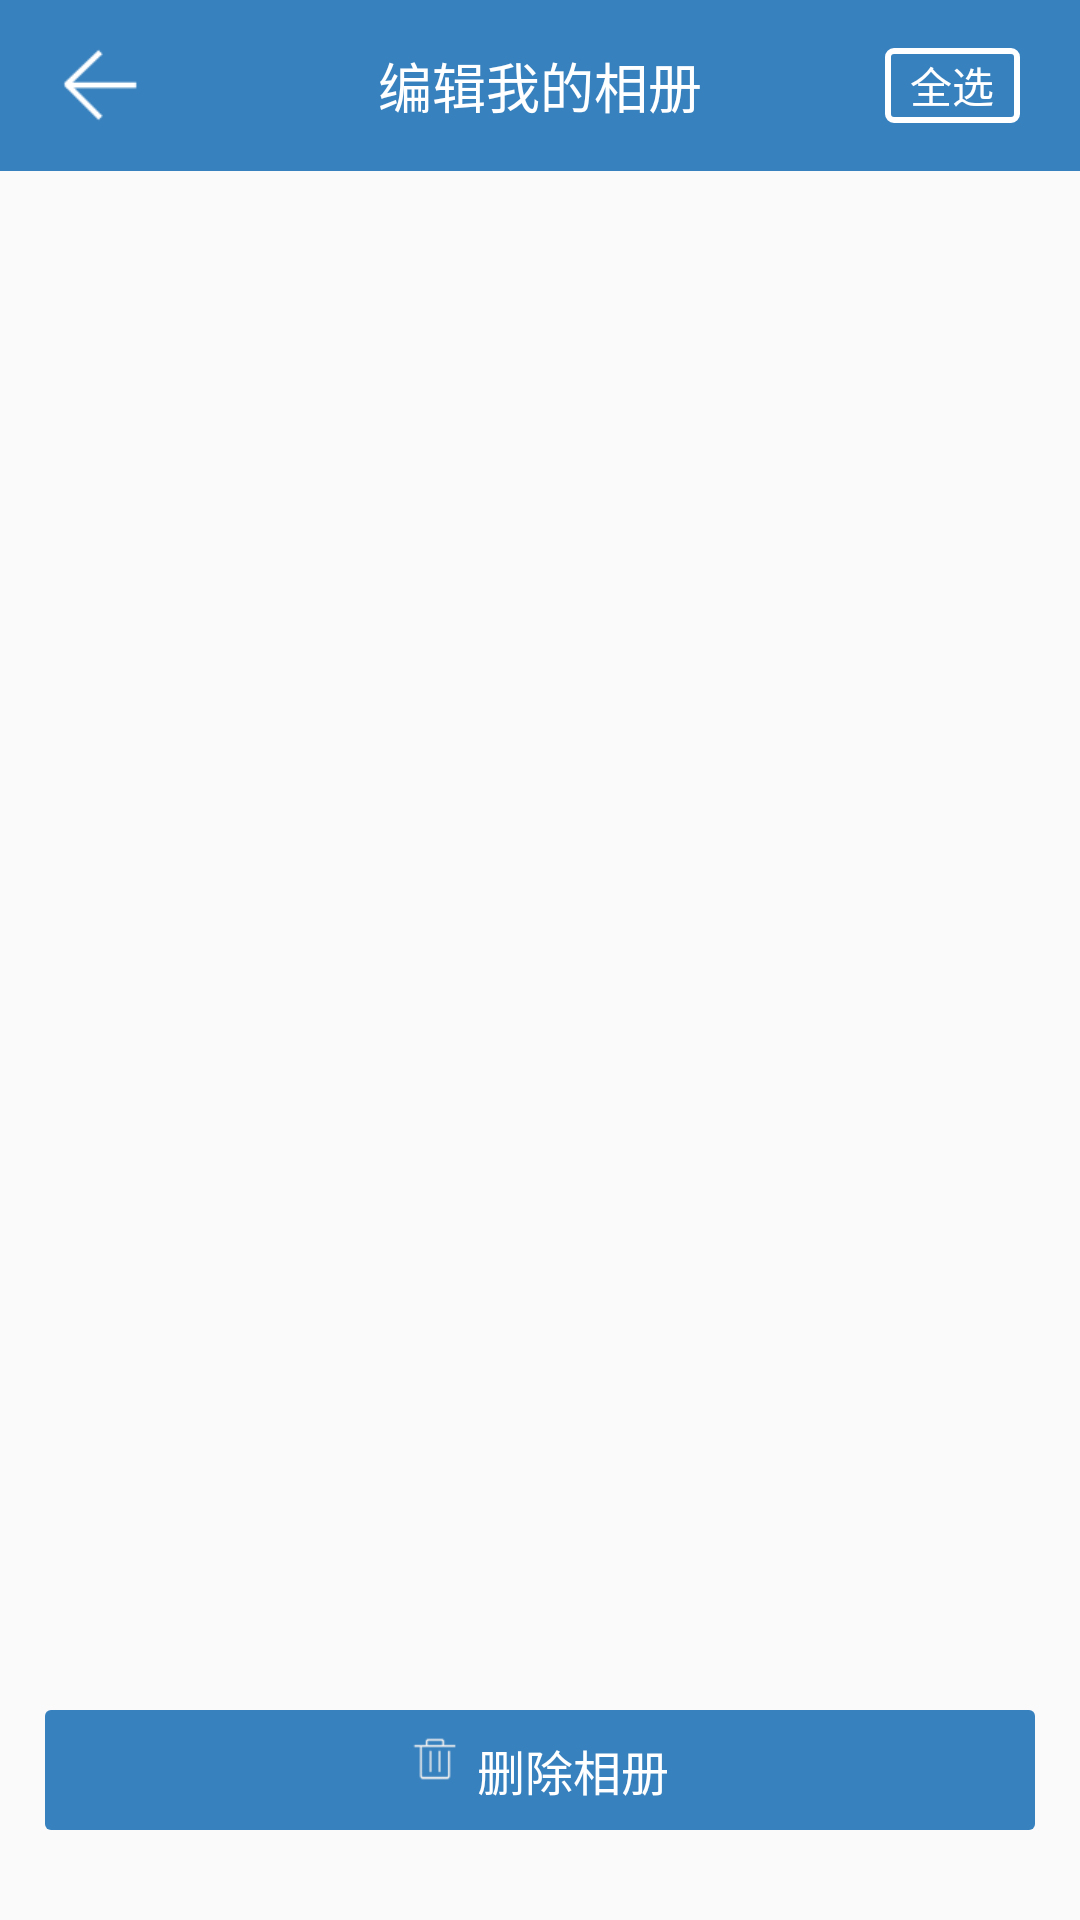

Named icons in this screenshot (1080w x 1920h) and their bounding boxes, box(x1, y1, x2, y2):
back arrow: box(64, 50, 137, 120)
